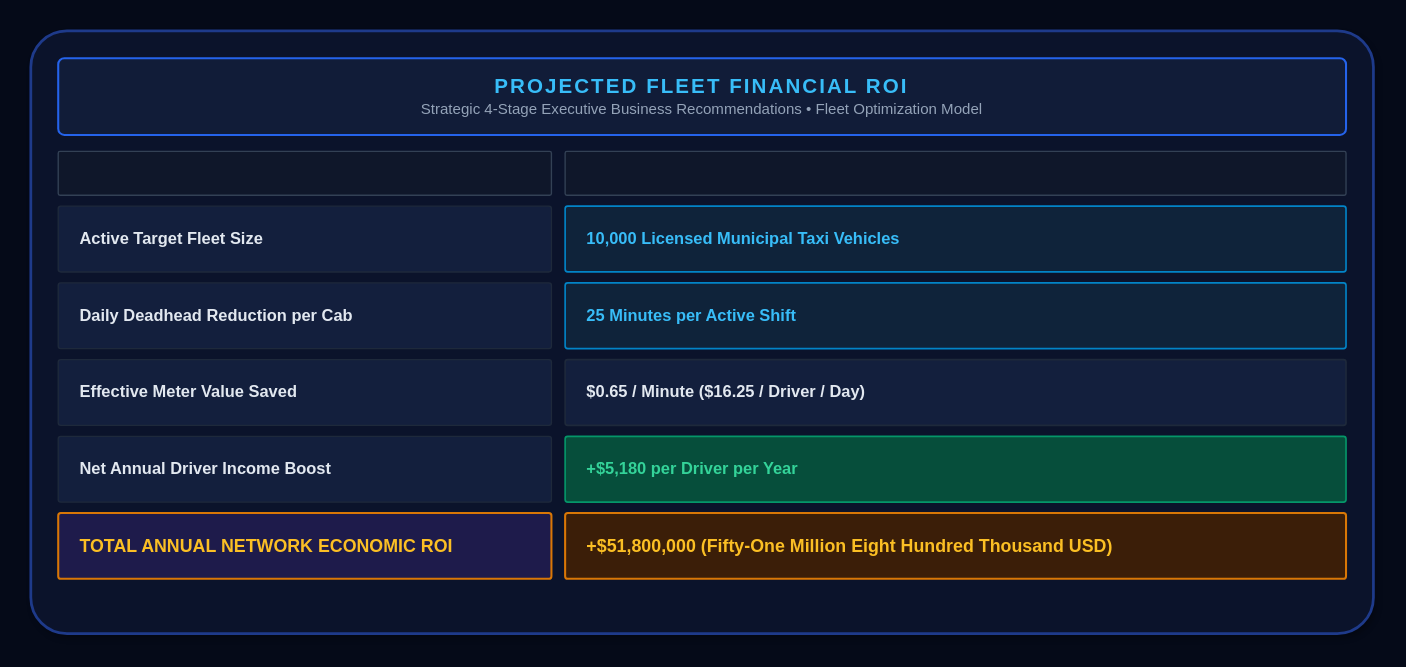
The diagram is 1406 pixels wide and 667 high, and some of its shapes have lost their labels. The centre of each missing label's shape, as x and y in pixels:
"METRIC / OPERATIONAL ASSUMPTION" belongs at [304,172].
"STRATEGIC PROJECTION & FINANCIAL VALUE" belongs at [955,172].
